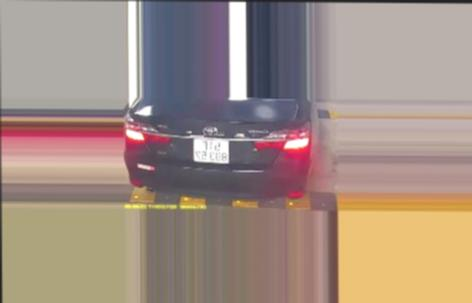License_Plate: (193, 136, 229, 164)
